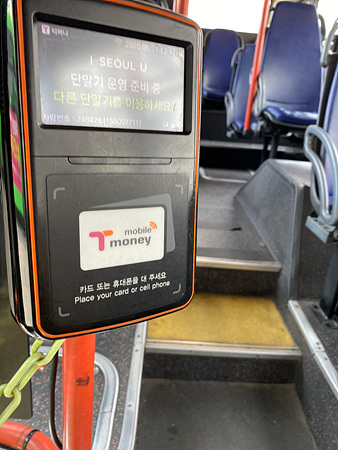terminal: (14, 1, 192, 327)
